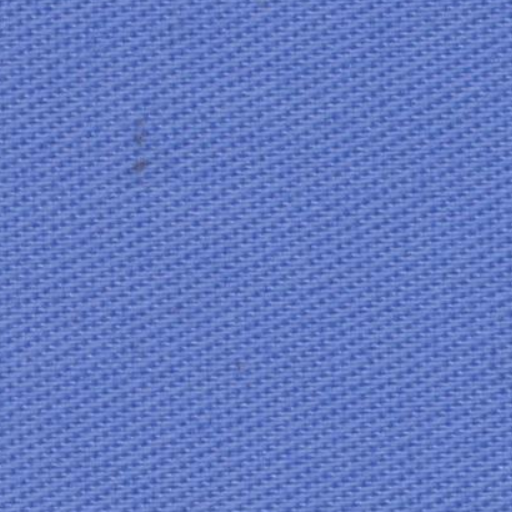WuZi: (105, 107, 160, 178)
